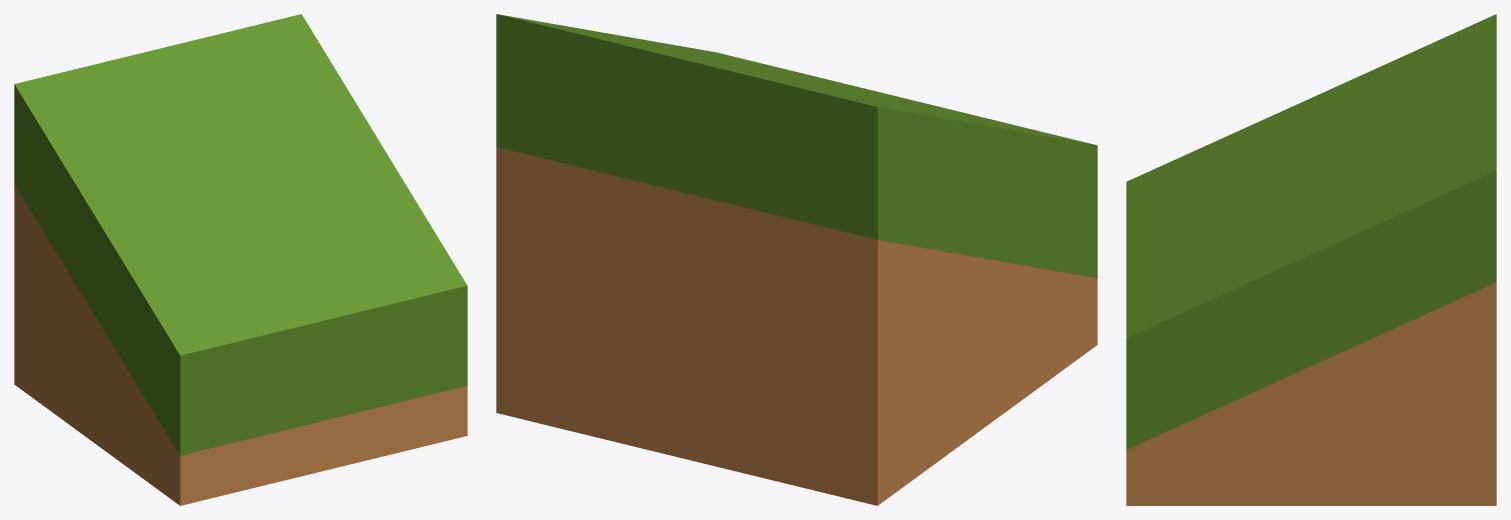
File: TileGrassMiringHalf.fbx
The picture shows the model from 3 angles, left to right: view 1: azimuth 30°, elevation 25°; view 2: azimuth 150°, elevation 25°; view 3: azimuth 270°, elevation 25°; orthographic projection. The views are drawn at different scales.
Parts seen in each view (by area): view 1: Tile_Center; view 2: Tile_Center; view 3: Tile_Center.
Boxes of the visible parts, x1=… form: Tile_Center: x1=14, y1=14, x2=467, y2=505; Tile_Center: x1=496, y1=14, x2=1097, y2=505; Tile_Center: x1=1126, y1=14, x2=1496, y2=505.
Size of the model in its own units: 200 by 200 by 200.
